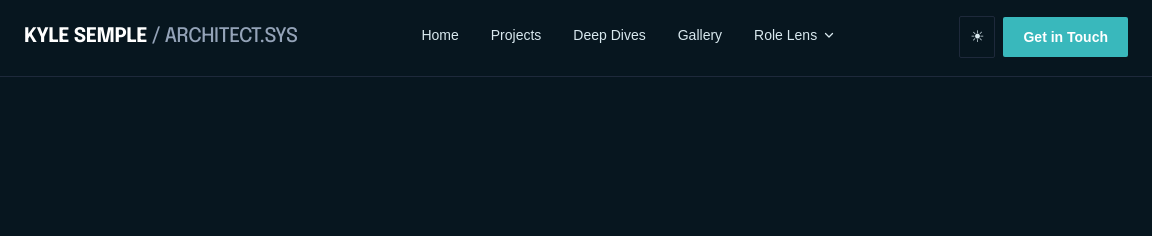
TopNav active states › marks Implementation Consultant active on its track
The image size is (1152, 236).
# Open the dropdown
Step 1. Click the button "Role Lens" → (795, 36), box [754,24,835,48]
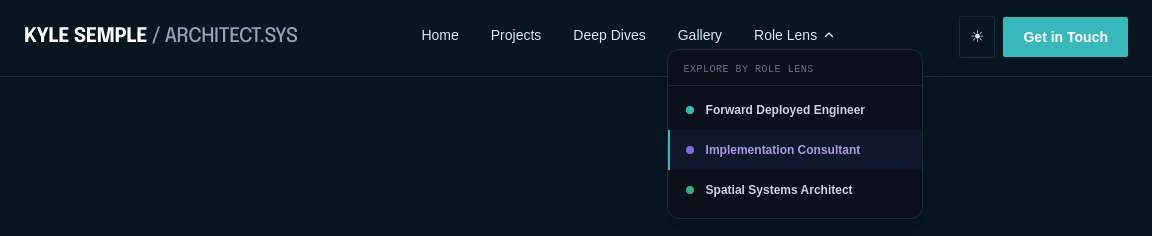
Now the menu item "Implementation Consultant" is shown, box [668,130,922,170]
